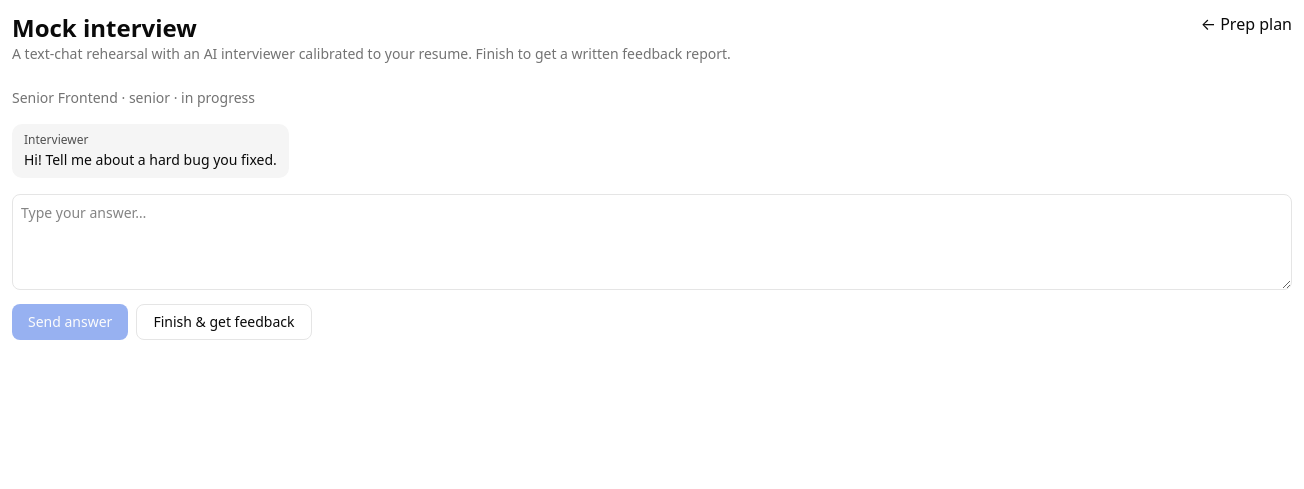
Test: InterviewMock › sends an answer and appends the next interviewer turn
Type "A race condition in a cache." into the text box labelled "your answer" at (652, 242), box x1=12 y1=194 x2=1292 y2=290
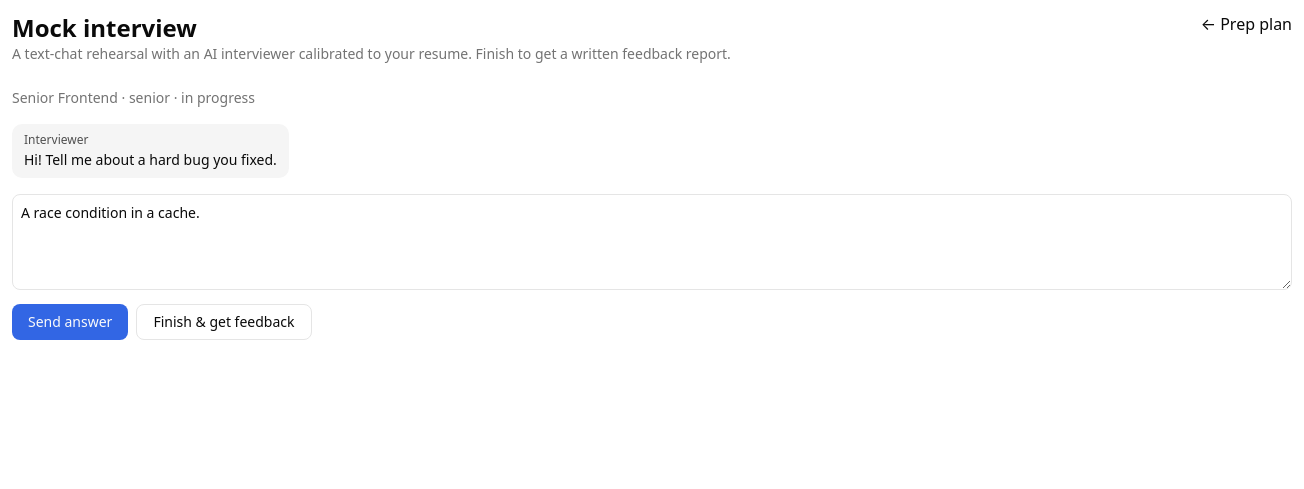
Click the button "Send answer" at (70, 322), box x1=12 y1=304 x2=128 y2=340
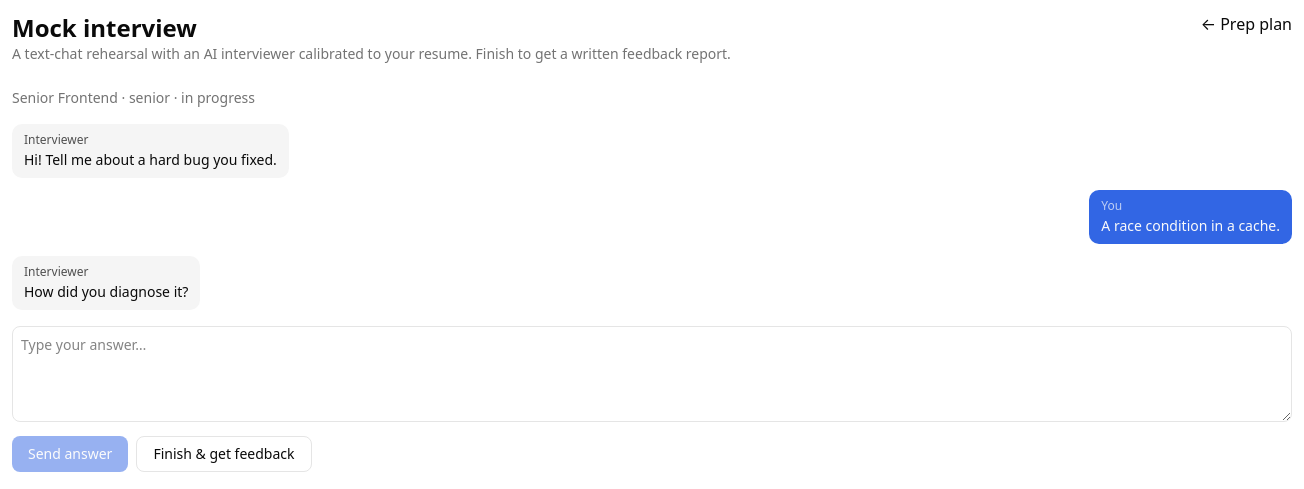
Result: the text "How did you diagnose it?" is shown at x1=24 y1=282 x2=188 y2=301
Result: the text "A race condition in a cache." is shown at x1=1101 y1=216 x2=1280 y2=235
